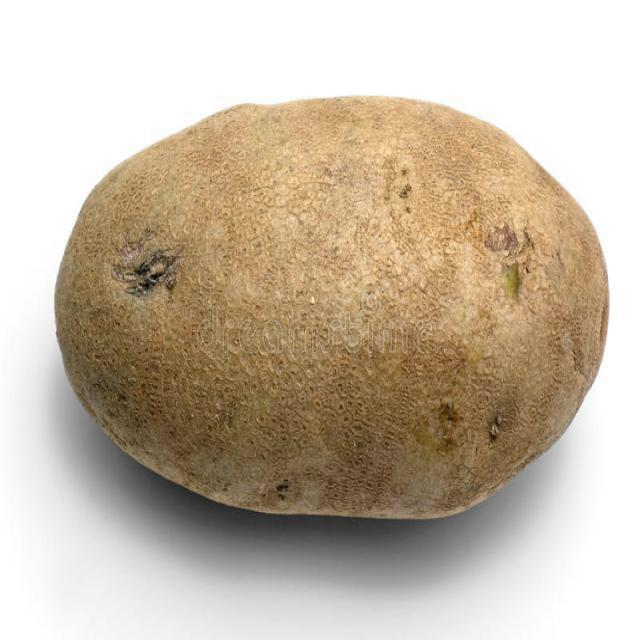potato: (46, 76, 614, 530)
